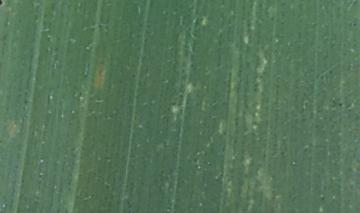tarspot: (337, 101, 343, 108), (1, 1, 5, 8)
